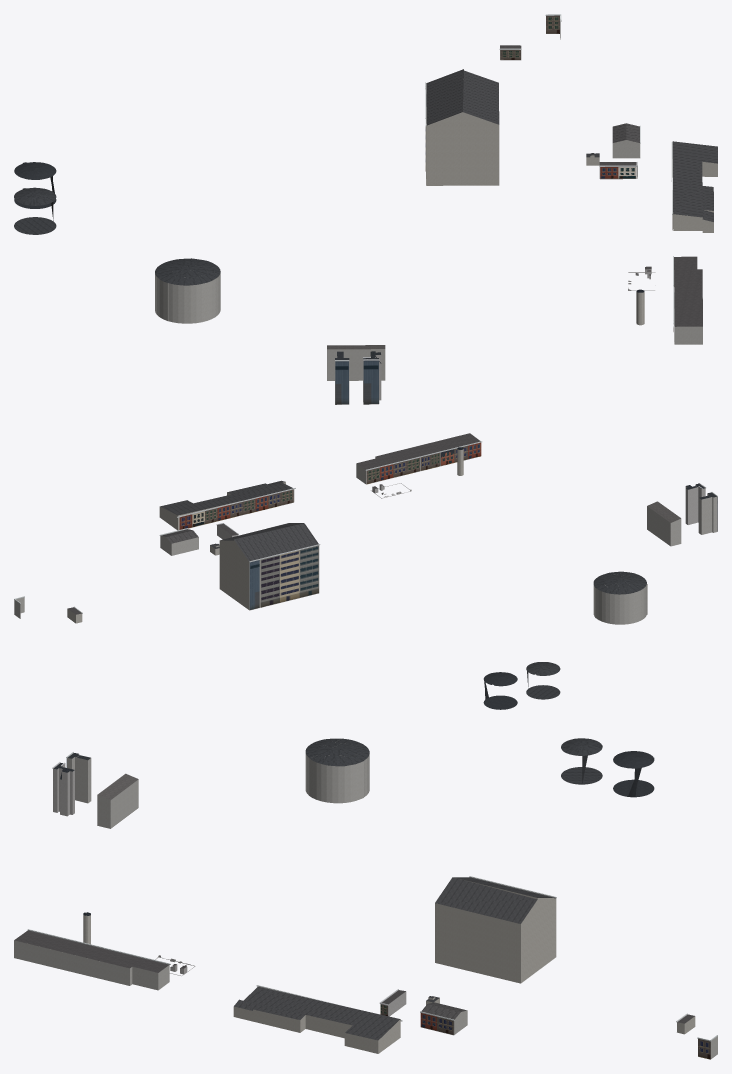
3 views of the same model, one above another, from view 1: azimuth 30°, elevation 25°; view 2: azimuth 150°, elevation 25°; view 3: azimuth 270°, elevation 25° (orthographic). The views are drawn at different scales.
Visible parts, largest first — view 1: bldg_6003919107, bldg_6003919107_roof, bldg_6003919129_roof, bldg_6000064297, bldg_6003919110_roof, bldg_6000064297_roof, bldg_6000064292_roof, bldg_6003919085, bldg_6003919129, bldg_6000064298_roof, bldg_6003919086_facade0, bldg_6003919083_facade0; view 2: bldg_6003919107_facade0, bldg_6003919107_roof, bldg_6003919107, bldg_6003919129_facade0, bldg_6000064297, bldg_6003919129_roof, bldg_6003919110_roof, bldg_6000064297_roof, bldg_6003919085, bldg_6000064298_roof, bldg_6003919110_facade3, bldg_6000064292_roof (+5 smaller); view 3: bldg_6003919107, bldg_6003919129_roof, bldg_6003919107_roof, bldg_6003919110, bldg_6000064297, bldg_6003919129, bldg_6003919110_roof, bldg_6000064297_roof, bldg_6000064292_roof, bldg_6000064298_roof, bldg_6003919085, bldg_6003919086 (+2 smaller).
Part boxes in pixels (x1,y1,x2,y2): bldg_6003919107: (426,79,499,185); bldg_6003919107_roof: (426,69,499,125); bldg_6003919129_roof: (672,141,717,221); bldg_6000064297: (155,270,220,323); bldg_6003919110_roof: (674,256,702,326); bldg_6000064297_roof: (155,258,220,285); bldg_6000064292_roof: (14,187,56,234); bldg_6003919085: (327,349,385,380); bldg_6003919129: (672,159,717,232); bldg_6000064298_roof: (14,162,56,208); bldg_6003919086_facade0: (363,359,379,404); bldg_6003919083_facade0: (335,360,349,404); bldg_6003919107_facade0: (260,544,320,607); bldg_6003919107_roof: (221,523,318,561); bldg_6003919107: (219,540,319,610); bldg_6003919129_facade0: (177,488,295,529); bldg_6000064297: (593,574,647,624); bldg_6003919129_roof: (160,480,292,515); bldg_6003919110_roof: (357,433,480,469); bldg_6000064297_roof: (593,571,646,594); bldg_6003919085: (647,506,681,546); bldg_6000064298_roof: (483,672,517,709); bldg_6003919110_facade3: (365,456,420,484); bldg_6000064292_roof: (526,662,560,699); bldg_6003919107: (435,879,555,983); bldg_6003919129_roof: (234,987,400,1040); bldg_6003919107_roof: (435,877,555,923); bldg_6003919110: (14,940,169,990); bldg_6000064297: (305,742,369,803); bldg_6003919129: (233,1006,400,1053); bldg_6003919110_roof: (14,930,169,972); bldg_6000064297_roof: (305,738,369,766); bldg_6000064292_roof: (561,738,602,784); bldg_6000064298_roof: (613,751,654,797); bldg_6003919085: (97,779,138,828); bldg_6003919086: (53,764,74,816).
Bounding box in the file's own units: 255 × 29.62 × 259.
Materials: 19 (13 with a texture image).
